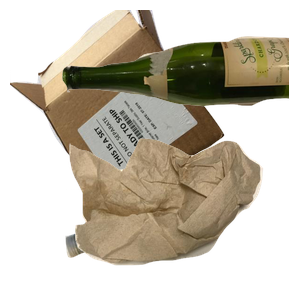cardboard: (10, 10, 227, 190)
glass: (60, 34, 300, 133)
plastic: (63, 170, 278, 300)
trash: (67, 136, 300, 300)
